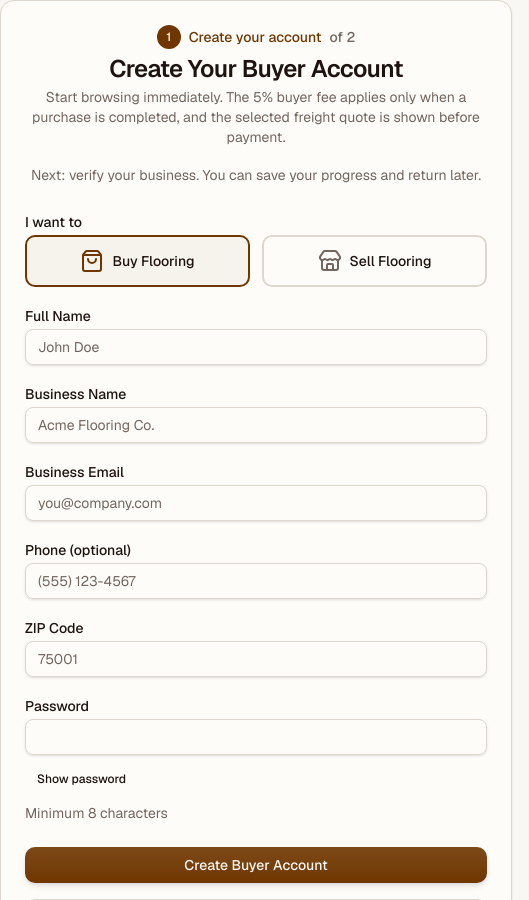
Test case: RegisterForm › shows seller account title when "Sell Flooring" is clicked
Click the button "Sell Flooring" at (374, 261), box [262,235,487,287]
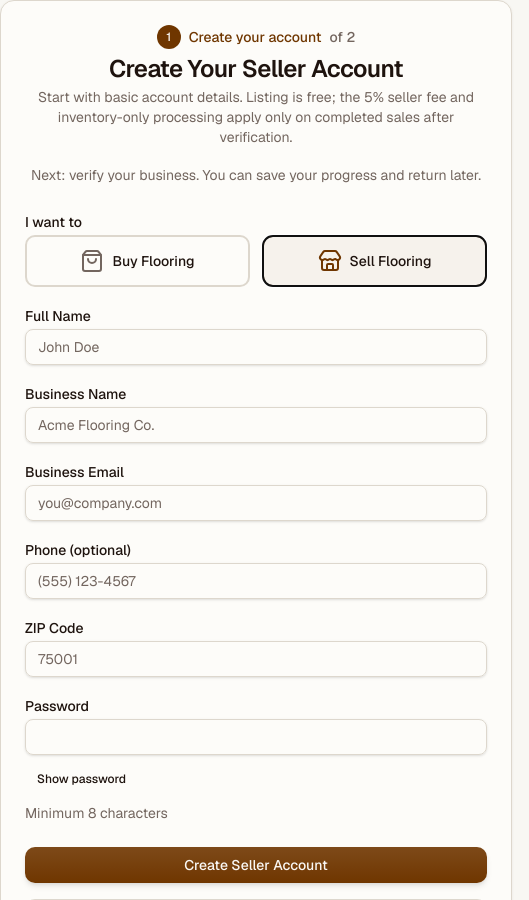
Now the heading "Create Your Seller Account" is shown, box [109,53,403,84]
Now the button "Create Seller Account" is shown, box [25,847,487,883]
